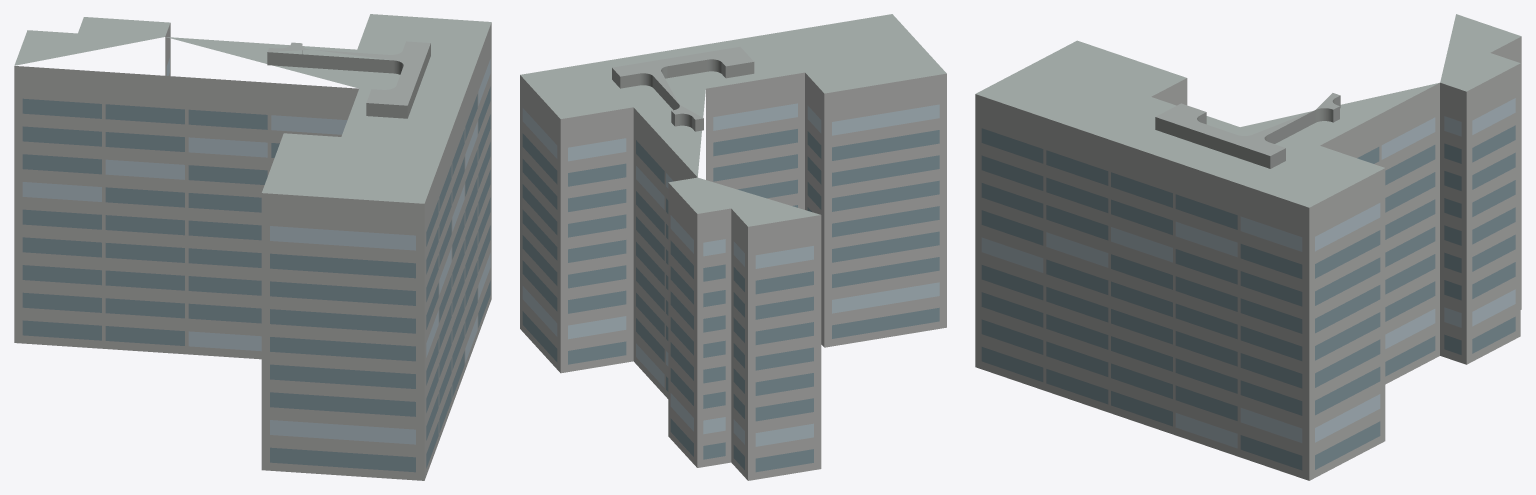
The model's file is fallback-dmc-parkview-xi-completion-501.glb.
The picture shows the model from 3 angles, left to right: view 1: azimuth 30°, elevation 25°; view 2: azimuth 150°, elevation 25°; view 3: azimuth 270°, elevation 25°; orthographic projection. The views are drawn at different scales.
Parts seen in each view (by area): view 1: fallback-dmc-parkview-xi-completion-501; view 2: fallback-dmc-parkview-xi-completion-501; view 3: fallback-dmc-parkview-xi-completion-501.
Part boxes in pixels (x1=…): fallback-dmc-parkview-xi-completion-501: x1=14, y1=14, x2=491, y2=480; fallback-dmc-parkview-xi-completion-501: x1=520, y1=14, x2=946, y2=480; fallback-dmc-parkview-xi-completion-501: x1=975, y1=14, x2=1521, y2=480.
Bounding box in the file's own units: 45.04 × 31 × 53.68.
